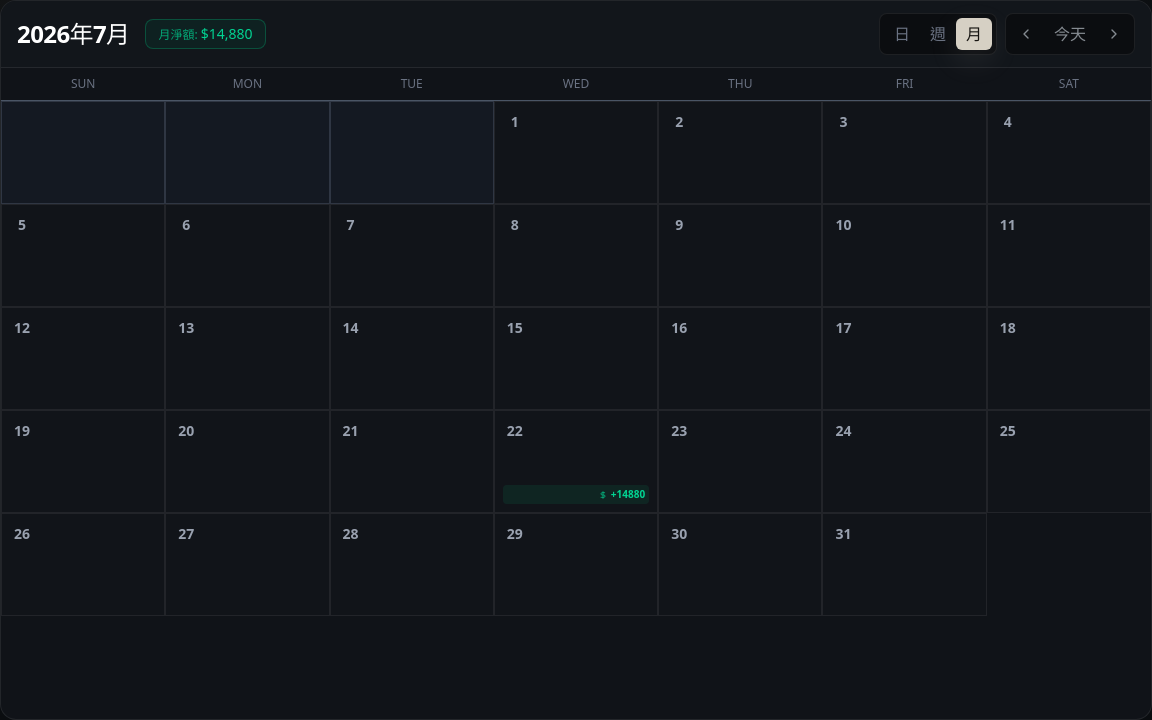
Scenario: CalendarView › shows expense and income records as matching red and green rows without inline entry forms
The image size is (1152, 720).
What coordinates should you click on to do the following:
click the text "22"
I would click on:
 (515, 430)
Its box is [507,421,523,440].
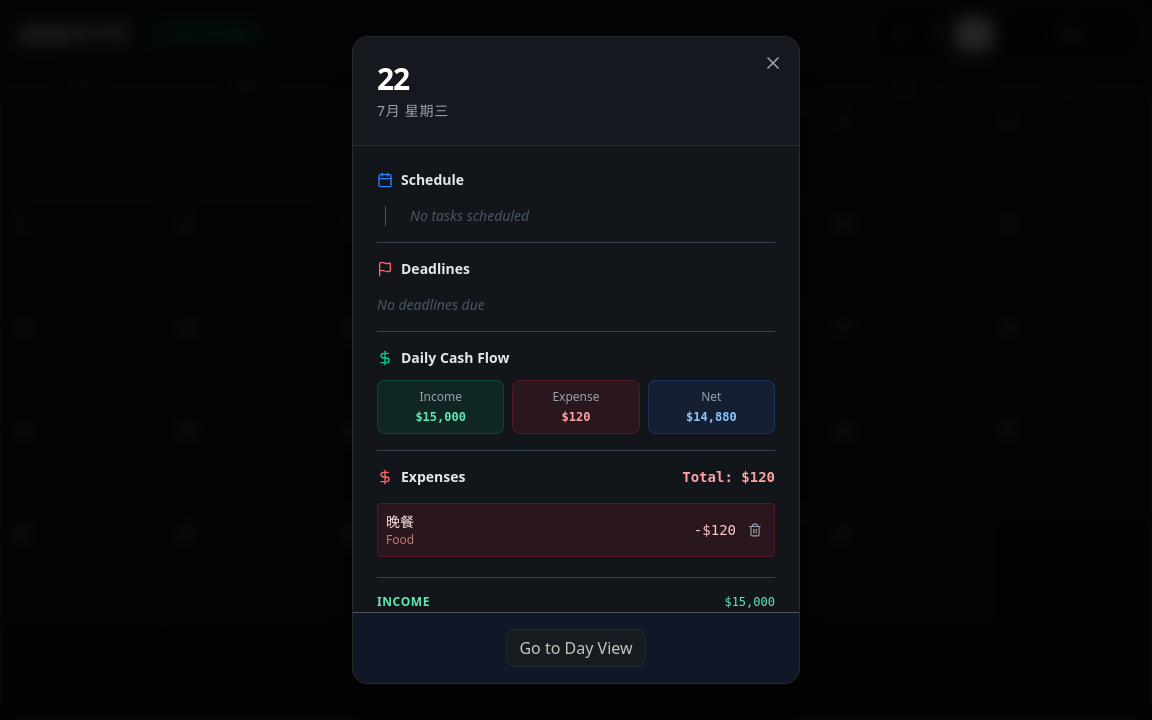
expect the text "晚餐" is shown: met, box [386,512,414,531]
